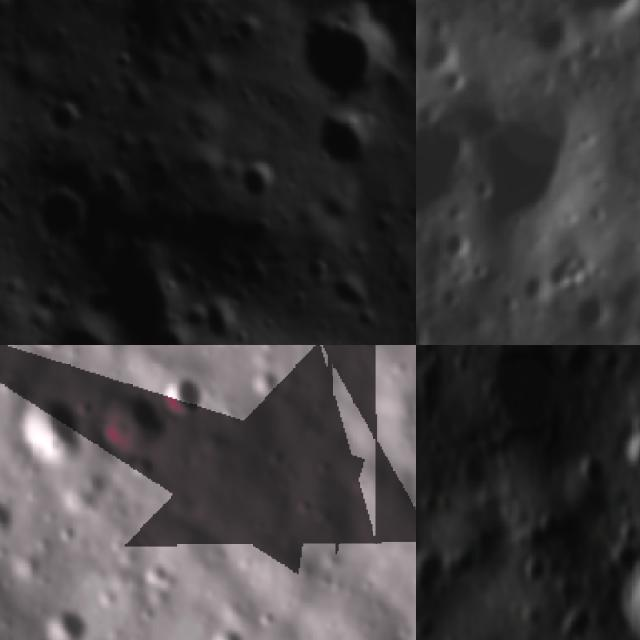crater: (475, 85, 610, 246), (302, 1, 405, 112), (476, 345, 574, 451), (416, 118, 479, 237), (29, 177, 108, 264), (12, 386, 85, 466), (309, 108, 382, 185), (93, 387, 166, 458), (236, 154, 296, 219), (551, 0, 640, 34), (156, 366, 209, 421), (56, 305, 125, 345), (547, 240, 593, 300), (201, 291, 249, 345), (330, 264, 376, 320), (41, 591, 92, 640), (48, 93, 96, 145), (416, 28, 461, 81), (530, 8, 574, 60), (416, 544, 454, 598), (575, 293, 618, 340), (568, 447, 606, 496), (553, 604, 601, 640), (517, 64, 559, 102), (245, 364, 285, 403), (437, 225, 480, 260), (615, 427, 640, 484), (431, 279, 468, 315), (0, 493, 24, 547), (518, 552, 553, 589), (143, 559, 177, 596), (202, 621, 251, 640), (416, 307, 435, 345)
